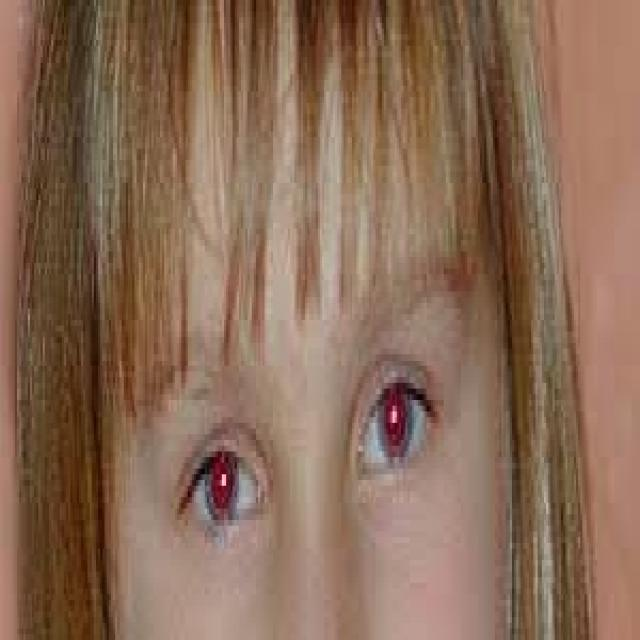reflexo-normal: (342, 350, 448, 516), (172, 415, 280, 567)
